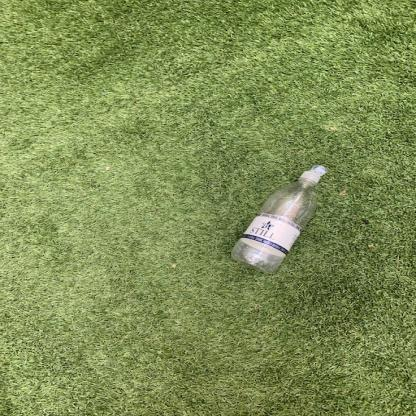trash: (228, 166, 329, 276)
